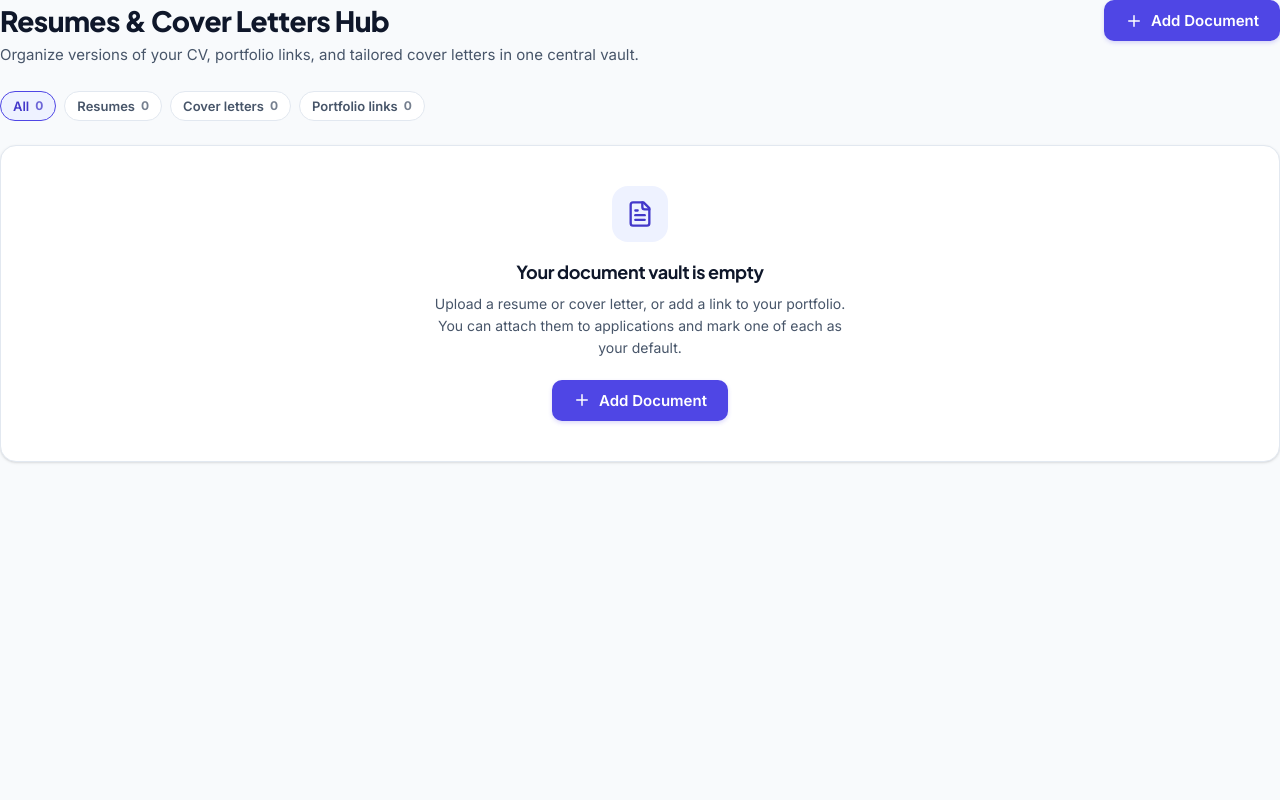
adding a document › opens the add form
Click the button "Add Document" in the row of "Resumes & Cover Letters Hub" at (1192, 20), box top-left (1104, 0), bottom-right (1279, 41)
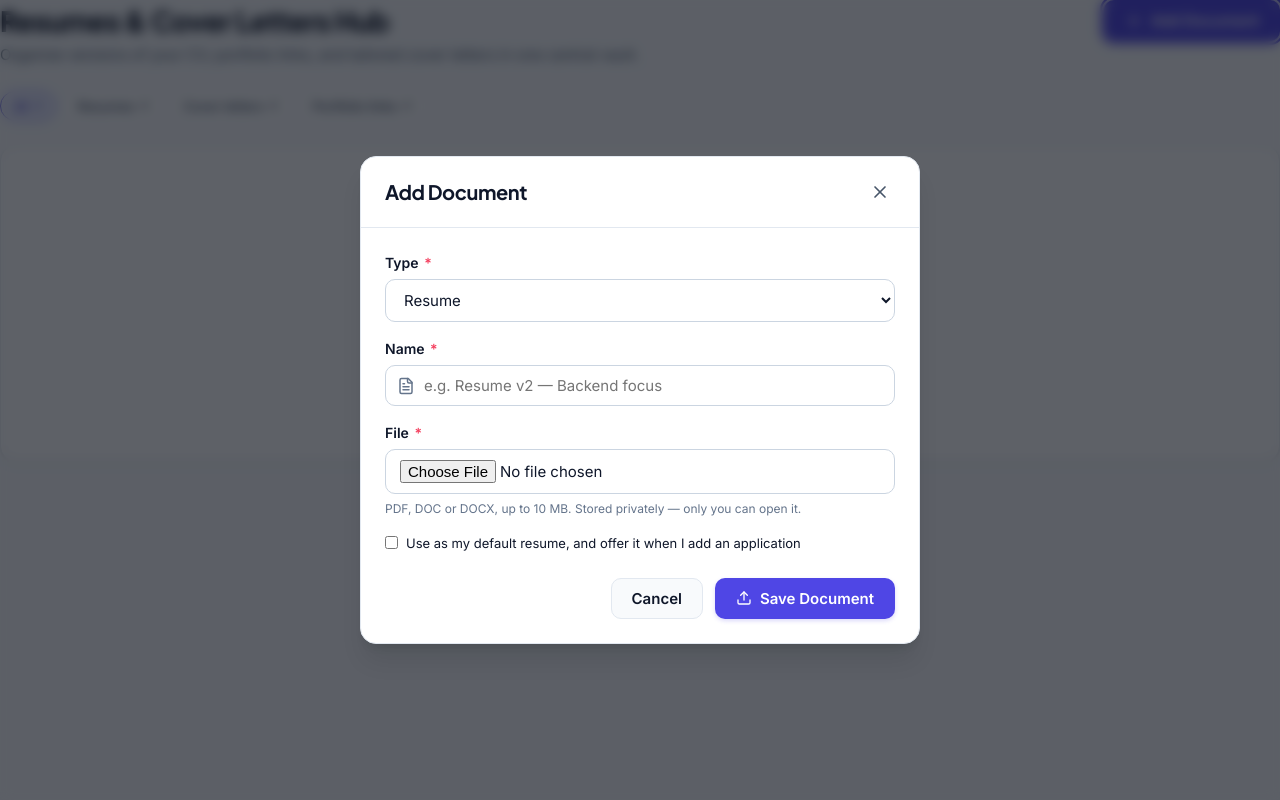
expect the heading "Add Document" is shown: met, box top-left (385, 177), bottom-right (527, 207)
